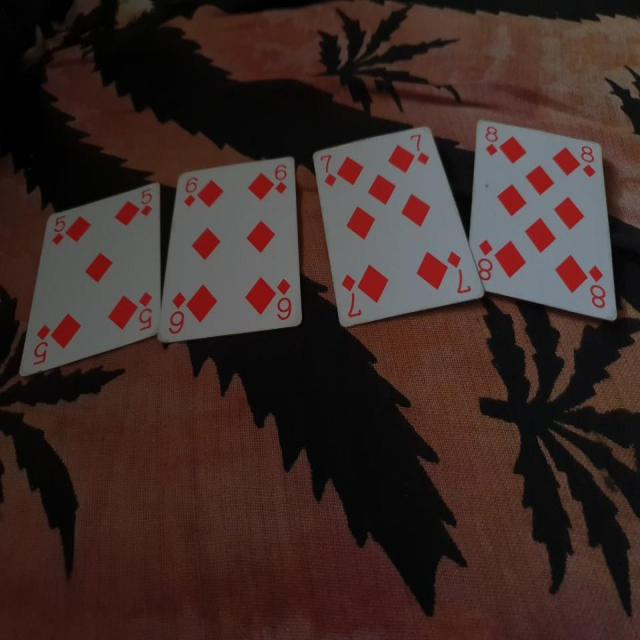5 Diamonds: (14, 177, 164, 382)
6 Diamonds: (157, 152, 306, 343)
7 Diamonds: (309, 124, 484, 327)
8 Diamonds: (468, 117, 620, 323)
